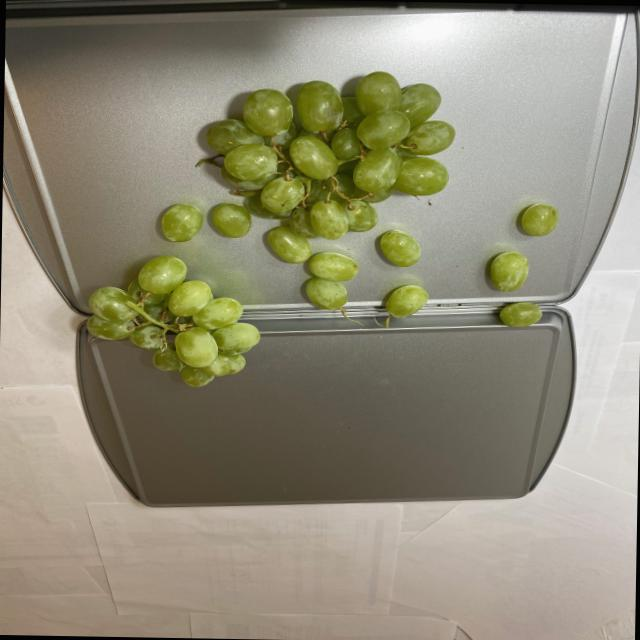grapes: (88, 66, 562, 391)
